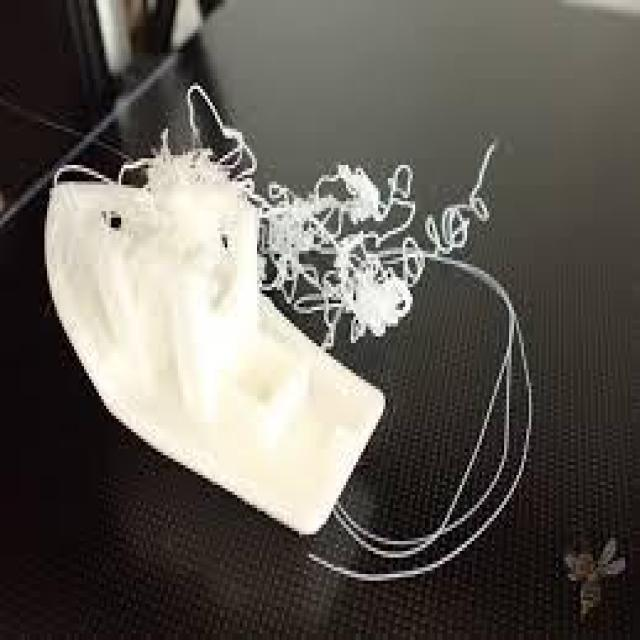Spaghetti: (167, 77, 473, 328)
